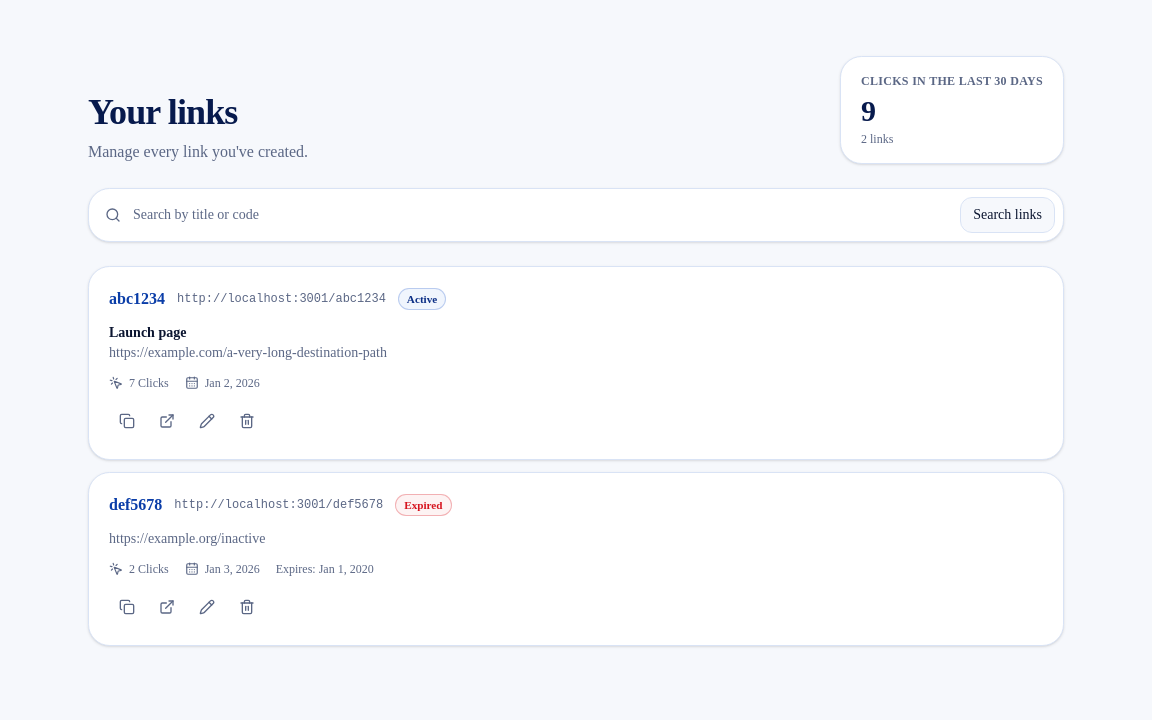
Test case: LinksView › rolls back an edit when the API fails
The image size is (1152, 720).
Click the button named "Edit: abc1234". click: [207, 421]
box: x1=189 y1=403 x2=225 y2=439
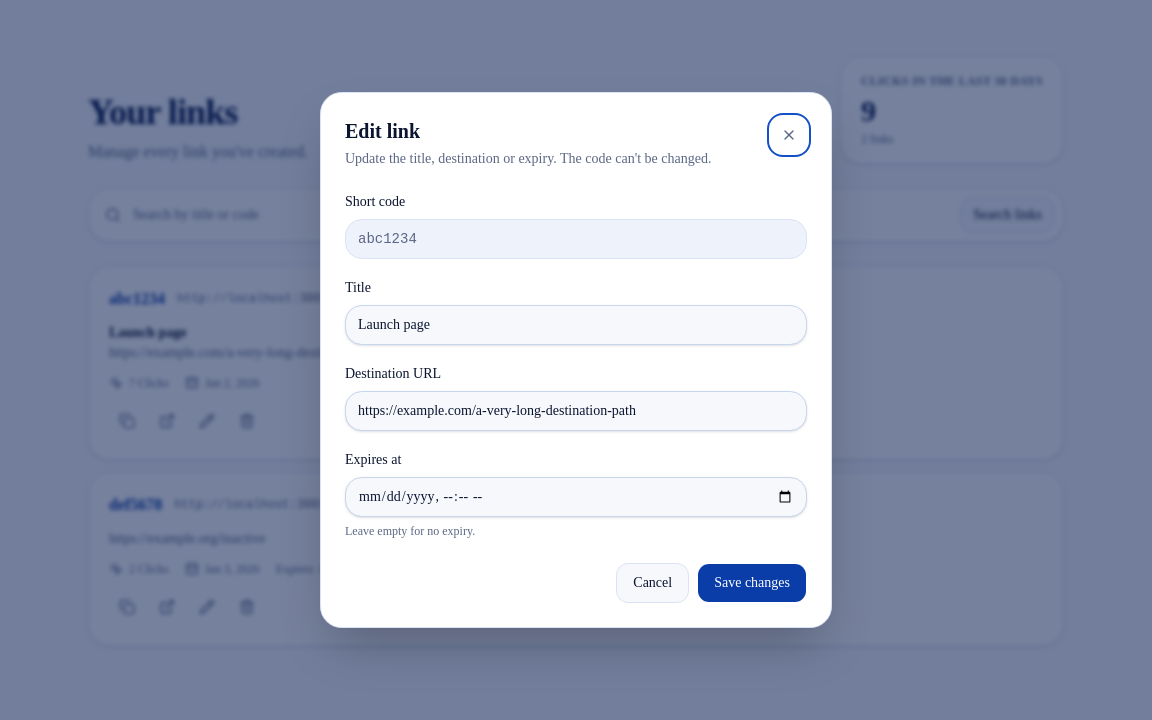
Replace the text in the field labelled "Destination URL" with "https://example.org/never-saved". click: [576, 411]
box: x1=345 y1=391 x2=807 y2=431
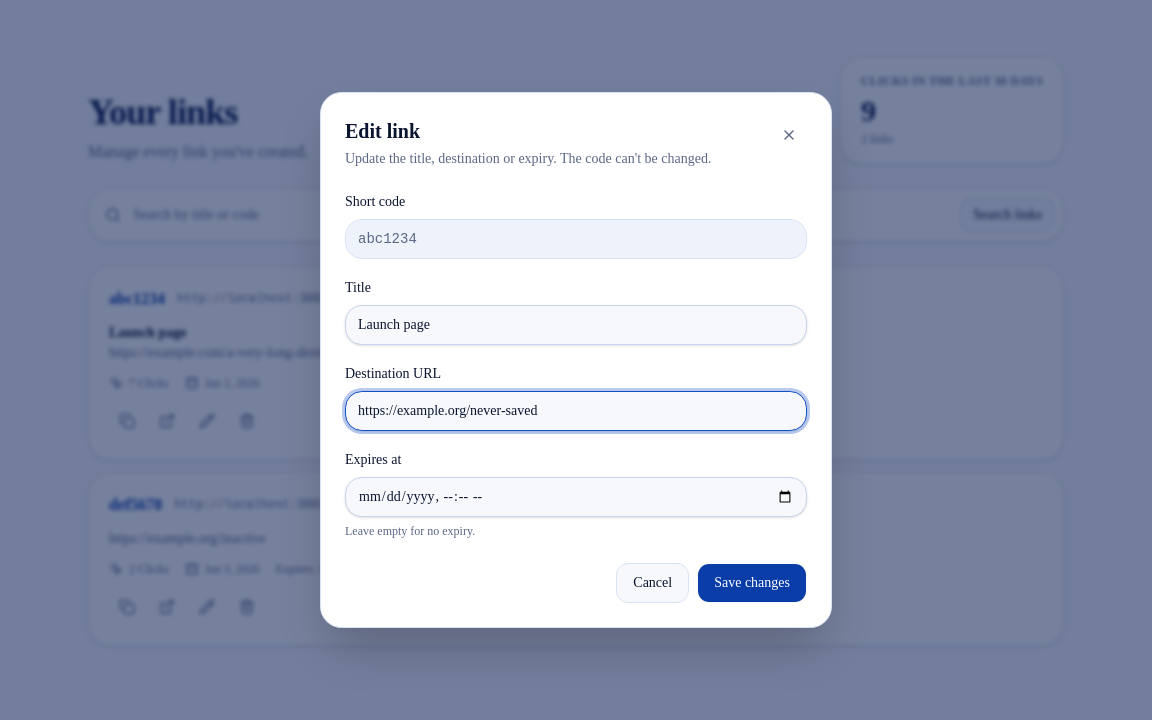
Click the button "Save changes". click: [752, 583]
box: x1=697 y1=563 x2=807 y2=603
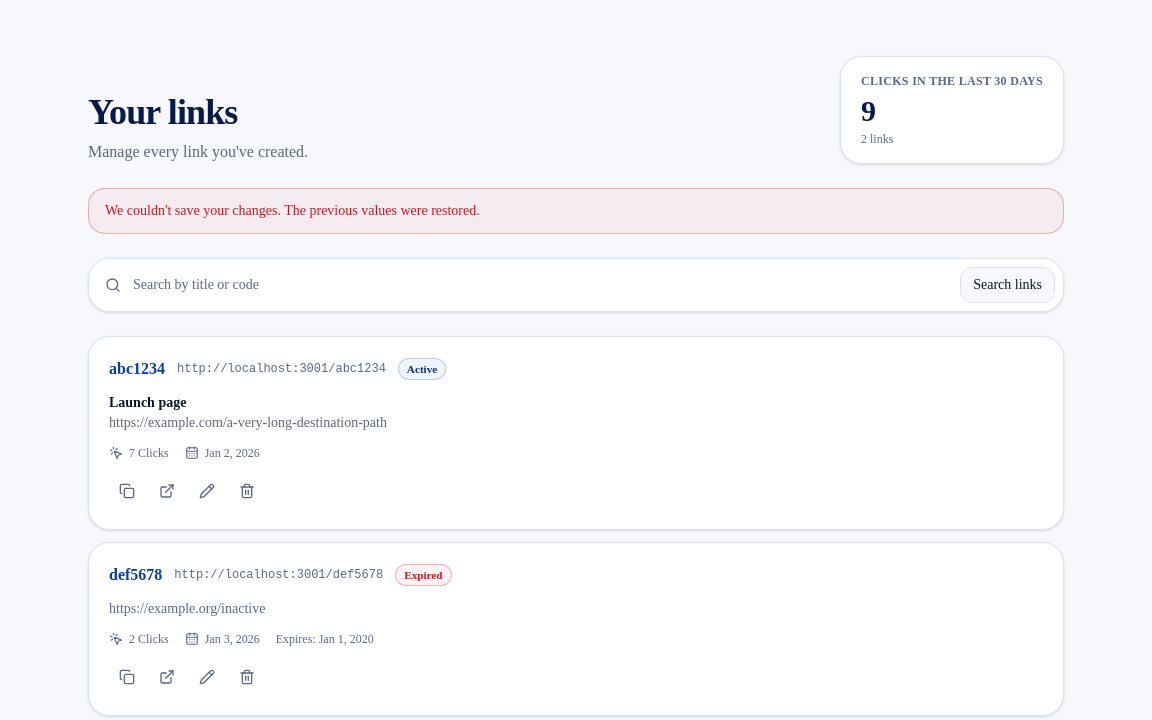
Expected: the text "https://example.com/a-very-long-destination-path" is shown, x1=109 y1=415 x2=387 y2=430
Result: the message reads "We couldn't save your changes. The previous values were restored." at x1=105 y1=203 x2=480 y2=218
